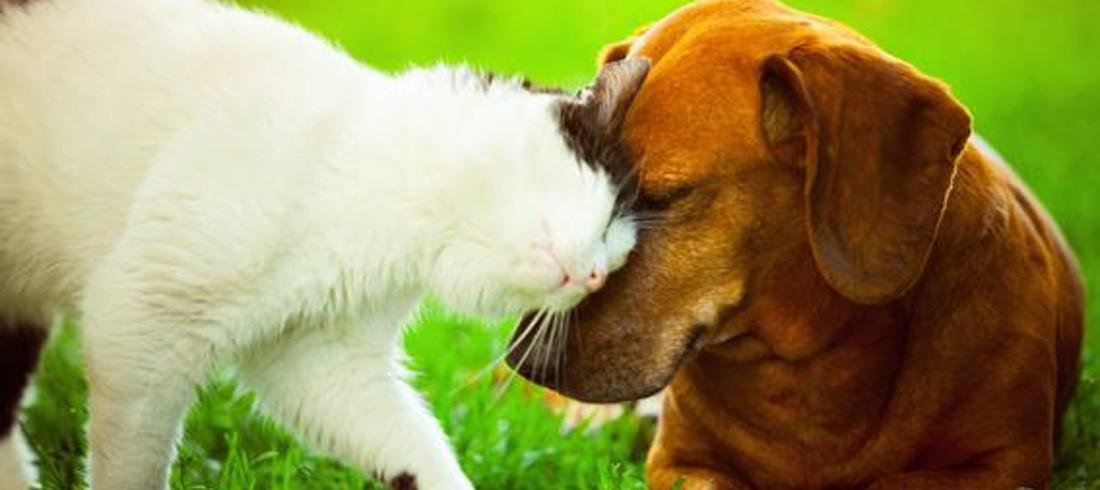cat: (29, 1, 648, 490)
dog: (521, 1, 1096, 482)
